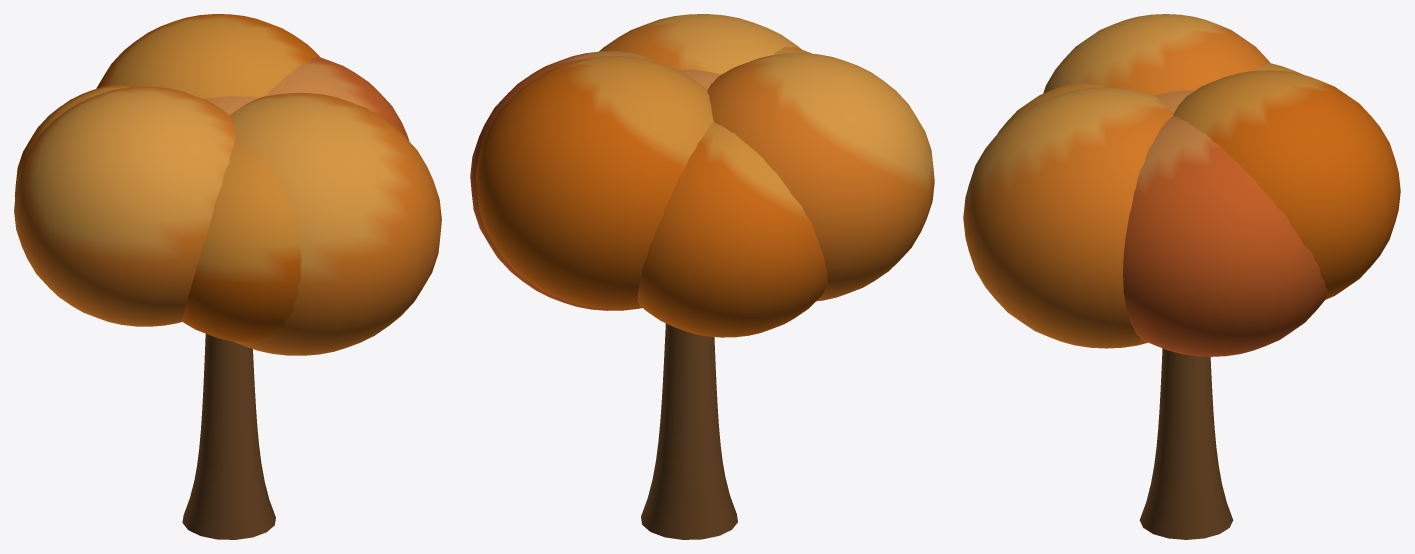
Rendered from tree-113.obj.
The picture shows the model from 3 angles, left to right: view 1: azimuth 30°, elevation 25°; view 2: azimuth 150°, elevation 25°; view 3: azimuth 270°, elevation 25°; orthographic projection. The views are drawn at different scales.
Parts seen in each view (by area): view 1: tree; view 2: tree; view 3: tree.
Part boxes in pixels (bbox=[...]): tree: bbox=[14, 14, 441, 539]; tree: bbox=[470, 14, 934, 539]; tree: bbox=[963, 14, 1400, 539].
Size of the model in its own units: 384 by 429 by 377.
